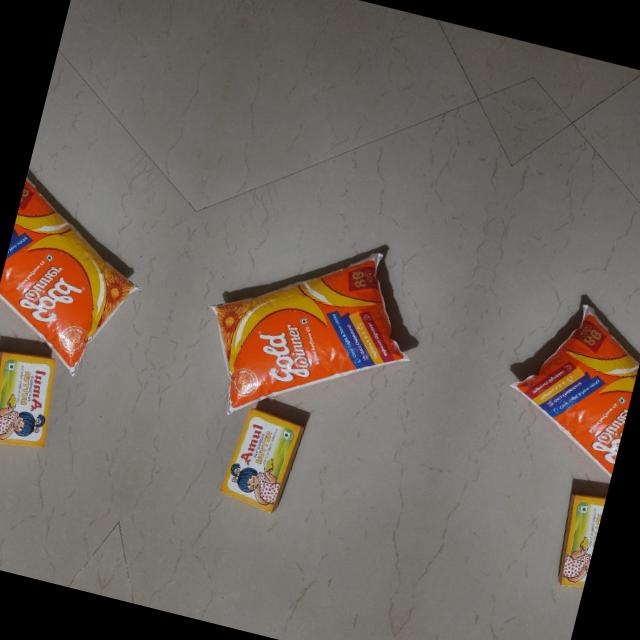Amul Butter: (214, 404, 304, 515), (0, 344, 66, 455), (550, 488, 606, 590)
Gold Oil: (191, 218, 432, 442), (0, 166, 156, 373), (488, 292, 640, 496)
